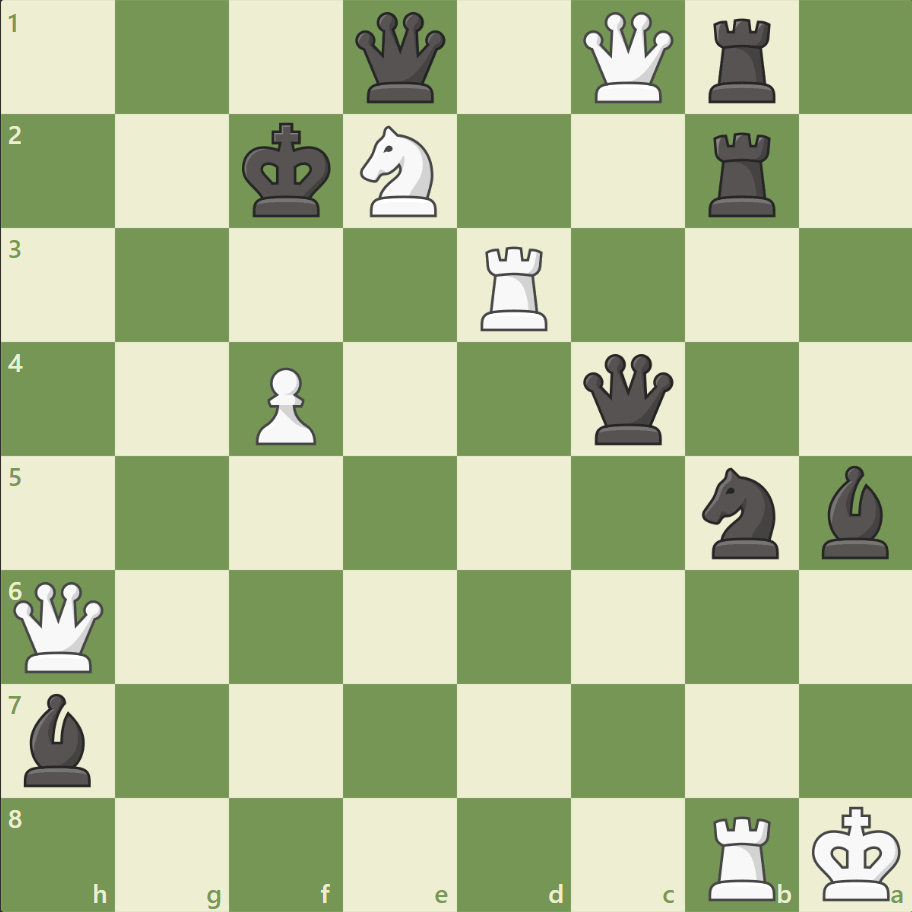K: (806, 798, 906, 906)
N: (351, 121, 449, 223)
P: (247, 359, 322, 450)
Q: (10, 576, 109, 676), (578, 9, 677, 108)
R: (700, 806, 783, 904), (473, 239, 556, 336)
b: (17, 687, 101, 790), (812, 460, 896, 563)
k: (238, 117, 338, 225)
n: (692, 461, 789, 564)
q: (578, 349, 677, 449), (351, 9, 450, 108)
r: (700, 125, 783, 222), (700, 12, 783, 109)
